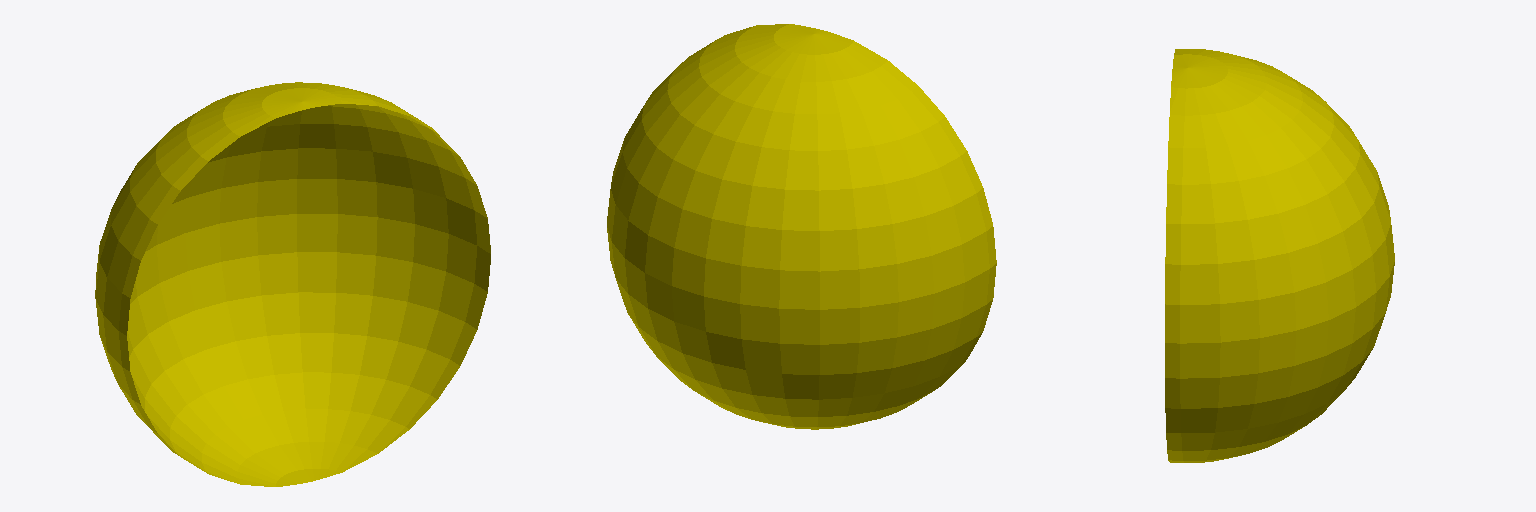
File: barrier.obj
3 renders of one model, left to right at view 1: azimuth 30°, elevation 25°; view 2: azimuth 150°, elevation 25°; view 3: azimuth 270°, elevation 25°, orthographic.
Visible parts, largest first — view 1: バリア; view 2: バリア; view 3: バリア.
Boxes of the visible parts, x1,y1,x2,y2 form: バリア: [95, 82, 490, 486]; バリア: [607, 24, 996, 429]; バリア: [1165, 49, 1394, 462].
Size of the model in its own units: 2 by 2 by 1.11.